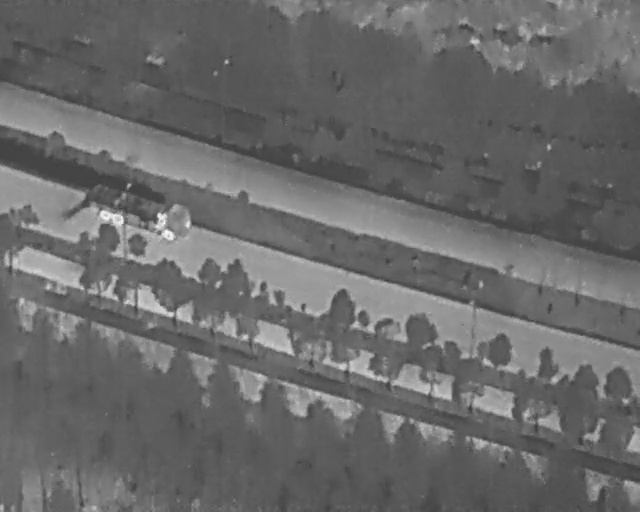OtherVehicle: (79, 179, 196, 244)
